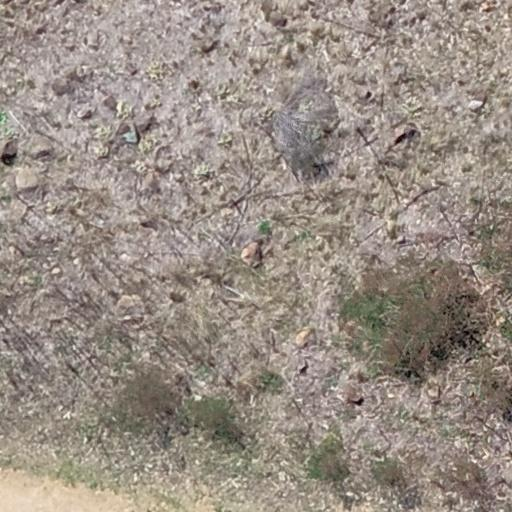stone: (257, 0, 331, 44), (261, 0, 313, 25), (361, 6, 395, 34), (245, 44, 270, 78), (131, 170, 162, 196), (218, 84, 251, 108), (142, 80, 166, 110), (384, 60, 410, 86), (241, 239, 265, 267), (112, 294, 148, 312), (7, 194, 31, 221), (14, 166, 40, 190), (234, 376, 258, 402), (144, 60, 170, 82), (157, 59, 188, 77), (118, 32, 142, 54), (160, 284, 183, 306), (24, 141, 50, 160), (29, 17, 51, 39), (270, 11, 291, 34), (278, 46, 298, 70), (143, 146, 174, 161), (410, 6, 434, 25), (202, 32, 222, 54), (358, 86, 378, 108), (258, 1, 278, 23), (200, 1, 227, 17), (114, 99, 134, 120), (402, 96, 424, 115), (0, 136, 16, 161), (138, 135, 158, 155), (134, 112, 154, 132), (348, 361, 369, 380), (354, 270, 372, 292), (91, 139, 110, 159), (216, 199, 235, 218), (346, 389, 364, 409), (61, 32, 79, 52), (51, 75, 72, 92), (478, 0, 503, 14), (293, 330, 311, 349), (341, 320, 359, 339), (493, 362, 510, 382), (353, 66, 370, 86), (214, 82, 234, 99), (100, 89, 116, 110), (8, 242, 26, 259), (140, 218, 161, 232), (70, 129, 88, 145), (131, 159, 149, 175), (44, 199, 62, 215), (172, 370, 188, 388), (88, 28, 100, 51), (216, 132, 234, 147), (212, 186, 231, 200), (465, 100, 485, 113), (395, 128, 412, 142), (458, 1, 476, 14), (127, 59, 140, 75), (187, 78, 201, 92), (330, 29, 344, 43), (320, 125, 336, 137), (297, 360, 309, 376), (111, 121, 125, 134), (97, 122, 108, 138), (495, 314, 507, 328), (427, 388, 440, 400), (198, 166, 211, 178), (463, 20, 475, 31), (79, 109, 95, 116), (500, 65, 508, 75), (359, 34, 366, 42)
